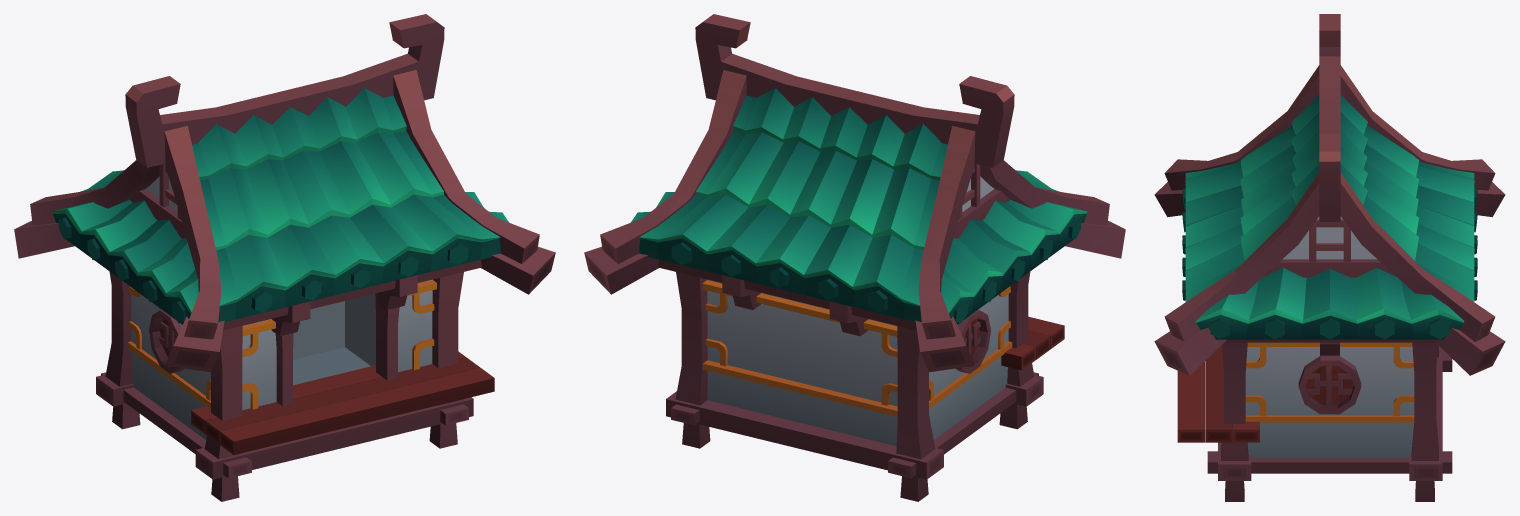
The model's file is shop.glb.
3 views of the same model, side by side, from view 1: azimuth 30°, elevation 25°; view 2: azimuth 150°, elevation 25°; view 3: azimuth 270°, elevation 25° (orthographic). The views are drawn at different scales.
Visible parts, largest first — view 1: shop; view 2: shop; view 3: shop.
Boxes of the visible parts, left/top/right/bottom form: shop: left=14, top=14, right=555, bottom=501; shop: left=584, top=14, right=1125, bottom=501; shop: left=1154, top=14, right=1505, bottom=501.
Size of the model in its own units: 3.67 by 3.44 by 3.01.
Materials: 1 (1 with a texture image).
